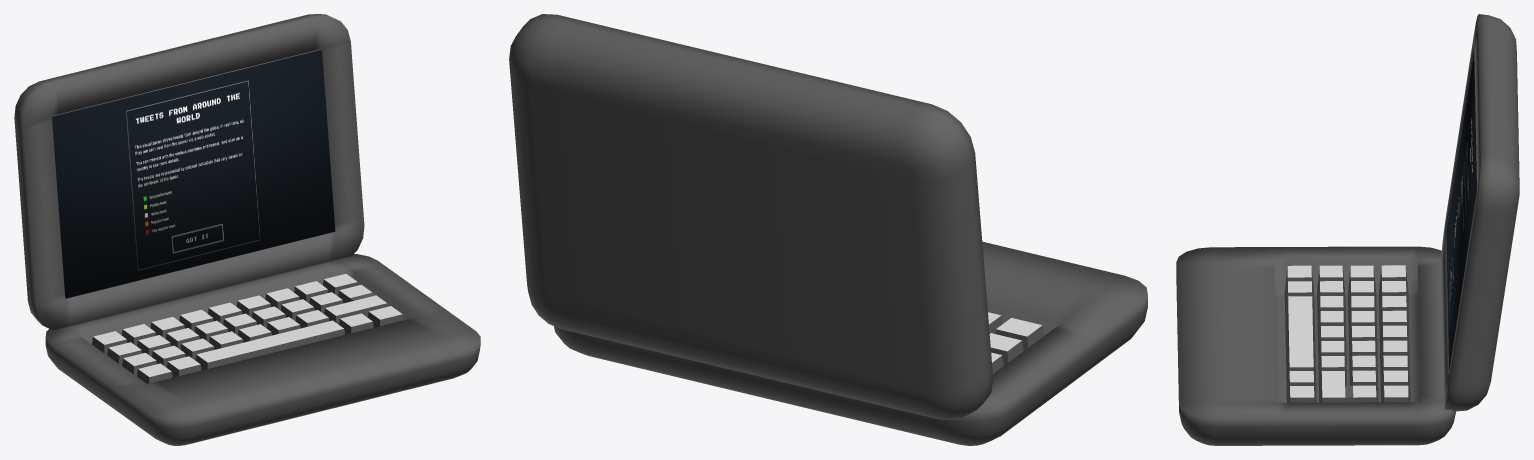
File: tweets-laptop.glb
3 views of the same model, side by side, from view 1: azimuth 30°, elevation 25°; view 2: azimuth 150°, elevation 25°; view 3: azimuth 270°, elevation 25° (orthographic). The views are drawn at different scales.
Parts seen in each view (by area): view 1: Plane.002; view 2: Plane.002; view 3: Plane.002.
Boxes of the visible parts, bbox=[...] form: Plane.002: bbox=[14, 14, 480, 445]; Plane.002: bbox=[509, 14, 1147, 445]; Plane.002: bbox=[1176, 14, 1519, 445].
Bounding box in the file's own units: 6.21 × 4.76 × 5.25.
3 materials, 1 textured.
